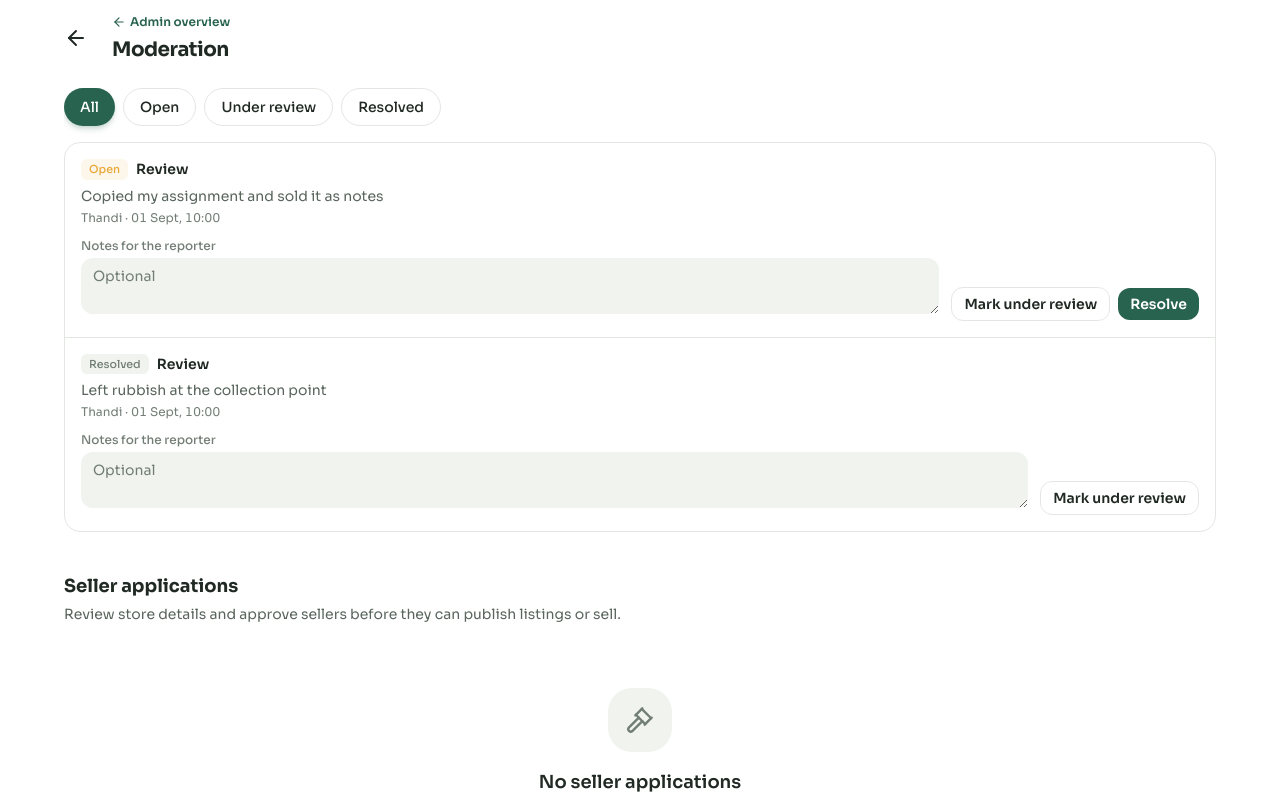
Test: Moderation › filters the queue by status
Expected: the text "Copied my assignment and sold it as notes" is shown, [81,186,384,206]
Click the button "Resolved": {"x": 391, "y": 107} [341,88,441,126]
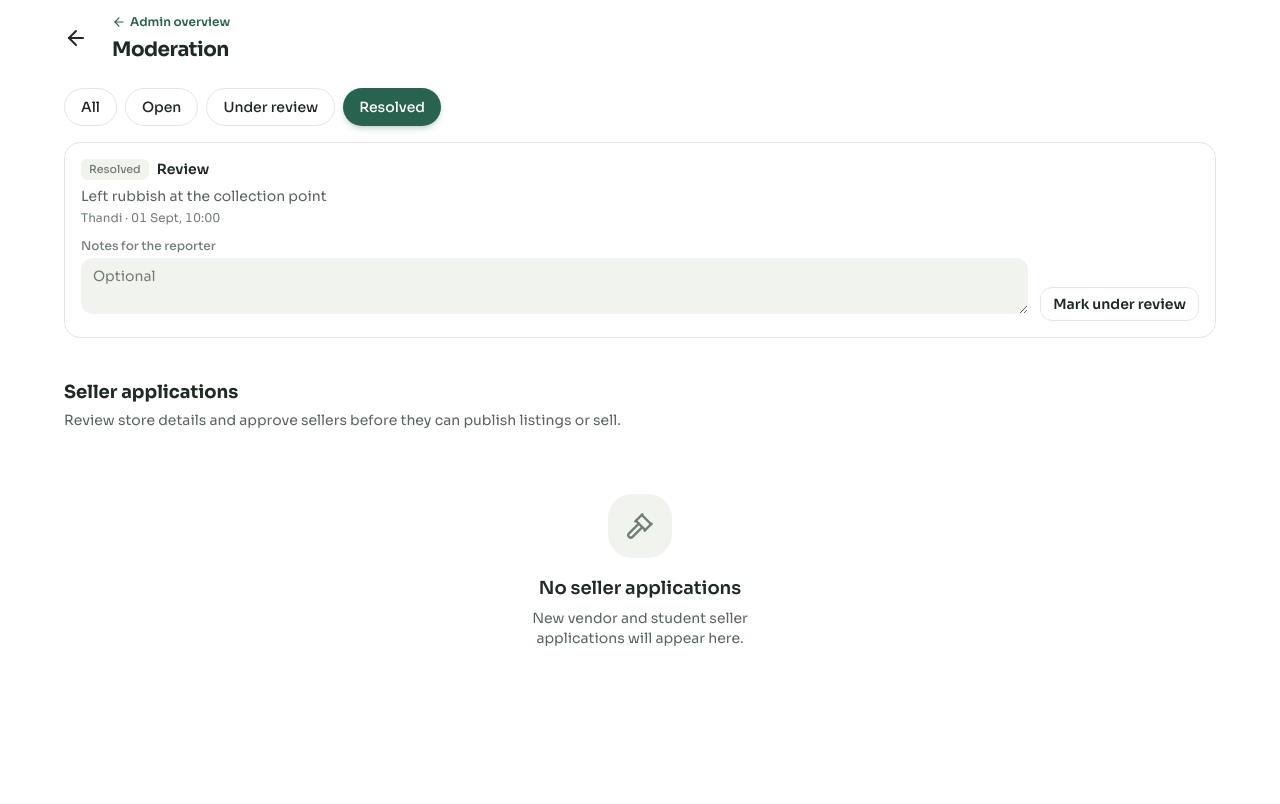
Expected: the text "Left rubbish at the collection point" is shown, [81,186,327,206]
Expected: the text "Copied my assignment and sold it as notes" is gone
